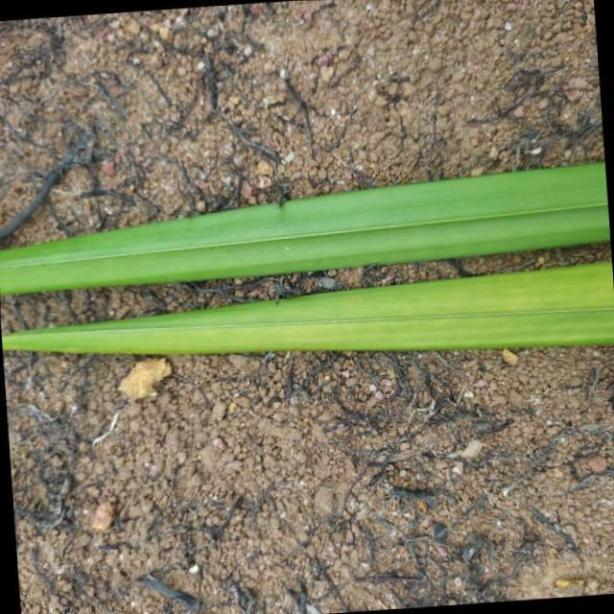nitrogen: (0, 160, 614, 296), (0, 253, 614, 355)
